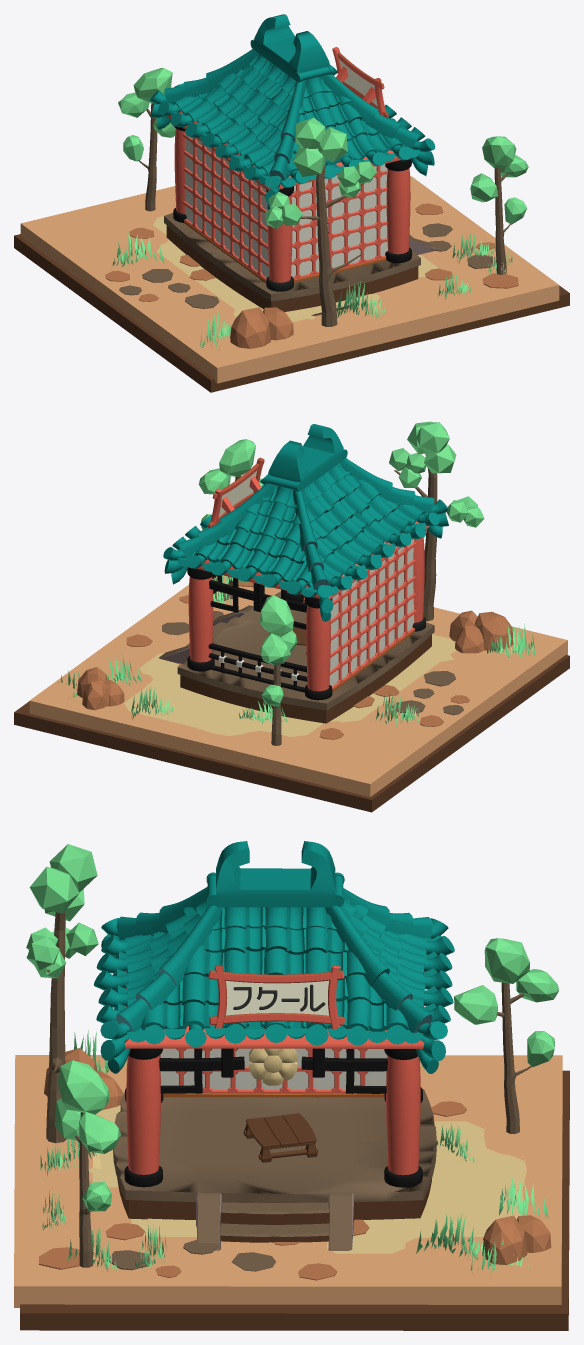
The model's file is japanese_house.glb.
3 renders of one model, top to bottom at view 1: azimuth 30°, elevation 25°; view 2: azimuth 150°, elevation 25°; view 3: azimuth 270°, elevation 25°, orthographic. The views are drawn at different scales.
Visible parts, largest first — view 1: floor3; view 2: floor3; view 3: floor3.
Part boxes in pixels (bbox=[...]): floor3: bbox=[14, 14, 569, 392]; floor3: bbox=[14, 421, 569, 812]; floor3: bbox=[14, 841, 569, 1330].
Bounding box in the file's own units: 8.92 × 6.14 × 8.61.
